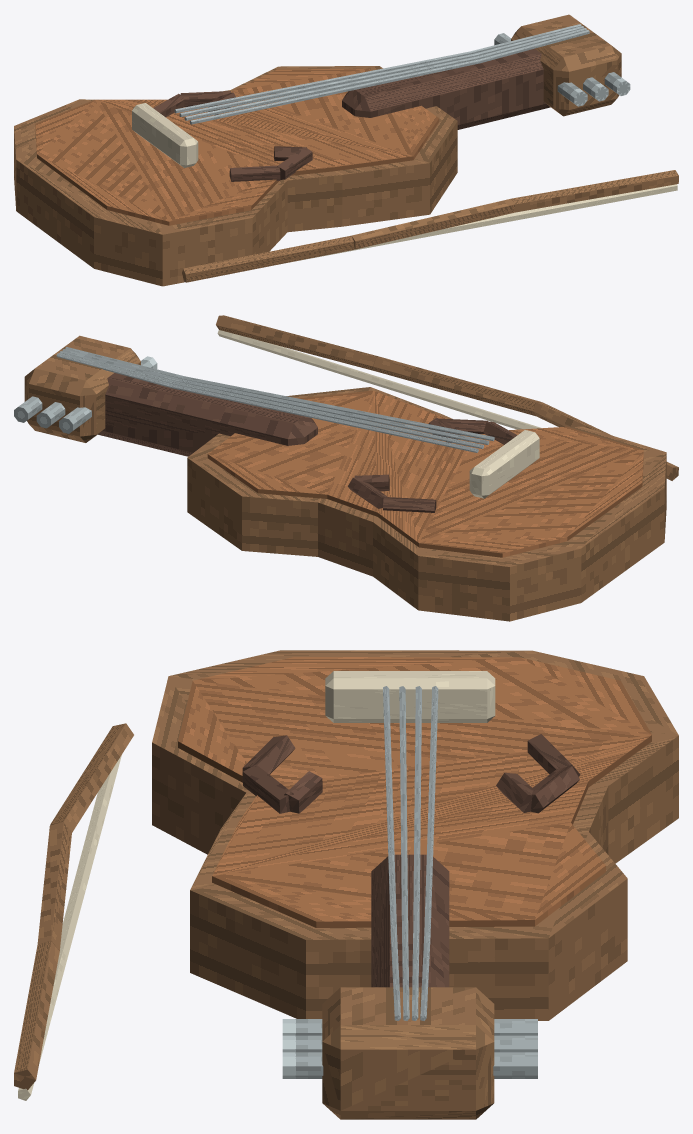
Rendered from violin.glb.
3 renders of one model, top to bottom at view 1: azimuth 30°, elevation 25°; view 2: azimuth 150°, elevation 25°; view 3: azimuth 270°, elevation 25°, orthographic. The views are drawn at different scales.
Parts seen in each view (by area): view 1: block_soundboard, block_contoured instrument body, block_neck and headstock, block_instrument string 0 (×4), block_tuning head, block_resting bow 0, block_resting bow 2, block_resting bow 1, block_string bridge, block_bow hair 0, block_violin f sound hole 1 (×2), block_violin f sound hole 0 (+2 smaller); view 2: block_soundboard, block_contoured instrument body, block_neck and headstock, block_instrument string 0 (×4), block_tuning head, block_bow hair 0, block_resting bow 1, block_resting bow 2, block_string bridge, block_tuning key (×3), block_violin f sound hole 1 (×2), block_resting bow 0 (+2 smaller); view 3: block_soundboard, block_contoured instrument body, block_tuning head, block_string bridge, block_neck and headstock, block_instrument string 0 (×4), block_tuning key (×6), block_resting bow 2, block_bow hair 0, block_resting bow 1, block_resting bow 0, block_violin f sound hole 1 (×2) (+2 smaller).
Boxes of the visible parts, <box> form: block_soundboard: <box>35,68,439,225</box>; block_contoured instrument body: <box>14,66,457,286</box>; block_neck and headstock: <box>342,48,550,129</box>; block_instrument string 0 (×4): <box>174,51,480,124</box>; block_tuning head: <box>511,14,621,116</box>; block_resting bow 0: <box>182,235,354,282</box>; block_resting bow 2: <box>511,170,678,212</box>; block_resting bow 1: <box>351,198,514,249</box>; block_string bridge: <box>132,103,198,167</box>; block_bow hair 0: <box>289,184,677,262</box>; block_violin f sound hole 1 (×2): <box>180,91,312,179</box>; block_violin f sound hole 0: <box>229,165,280,181</box>; block_soundboard: <box>207,390,643,557</box>; block_contoured instrument body: <box>187,387,666,621</box>; block_neck and headstock: <box>98,373,317,456</box>; block_instrument string 0 (×4): <box>172,376,494,452</box>; block_tuning head: <box>24,335,140,442</box>; block_bow hair 0: <box>217,330,541,429</box>; block_resting bow 1: <box>373,357,541,416</box>; block_resting bow 2: <box>216,315,379,371</box>; block_string bridge: <box>469,430,539,498</box>; block_tuning key (×3): <box>14,396,91,433</box>; block_violin f sound hole 1 (×2): <box>348,418,488,508</box>; block_resting bow 0: <box>533,402,678,480</box>; block_soundboard: <box>178,657,651,927</box>; block_contoured instrument body: <box>152,650,678,1020</box>; block_tuning head: <box>322,987,494,1119</box>; block_string bridge: <box>325,671,495,722</box>; block_neck and headstock: <box>371,854,449,987</box>; block_instrument string 0 (×4): <box>383,686,438,935</box>; block_tuning key (×6): <box>282,1019,537,1078</box>; block_resting bow 2: <box>14,941,59,1090</box>; block_bow hair 0: <box>18,755,121,1100</box>; block_resting bow 1: <box>37,822,71,951</box>; block_resting bow 0: <box>50,723,133,832</box>; block_violin f sound hole 1 (×2): <box>243,764,579,813</box>.
Size of the model in its own units: 0.6 by 0.0971 by 0.3955.
Materials: 1 (1 with a texture image).
